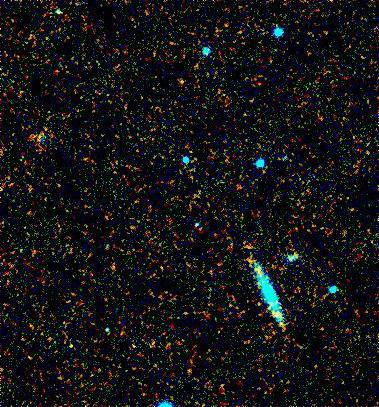star: (59, 326, 89, 356)
